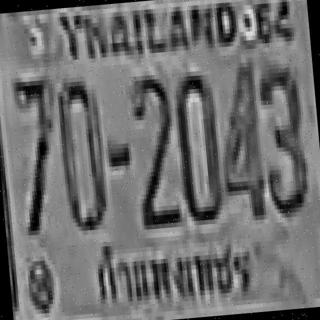N00: (54, 76, 108, 228), (172, 65, 223, 222)
N02: (128, 69, 178, 225)
N03: (255, 60, 309, 212)
N04: (213, 58, 265, 218)
N07: (10, 71, 60, 231)
P16: (82, 227, 258, 316)
